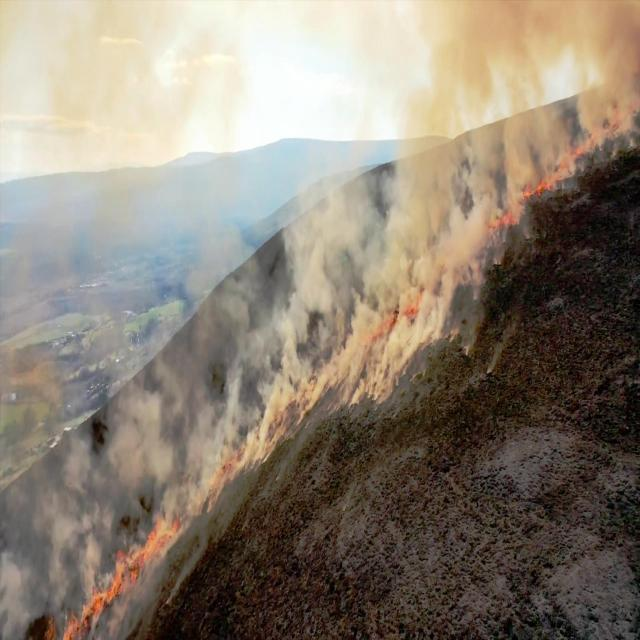Fire: (488, 114, 640, 228), (64, 552, 128, 638), (134, 512, 184, 564)
Smoke: (1, 0, 640, 111), (2, 238, 456, 388), (1, 109, 488, 237), (1, 394, 268, 492), (0, 496, 70, 640)
